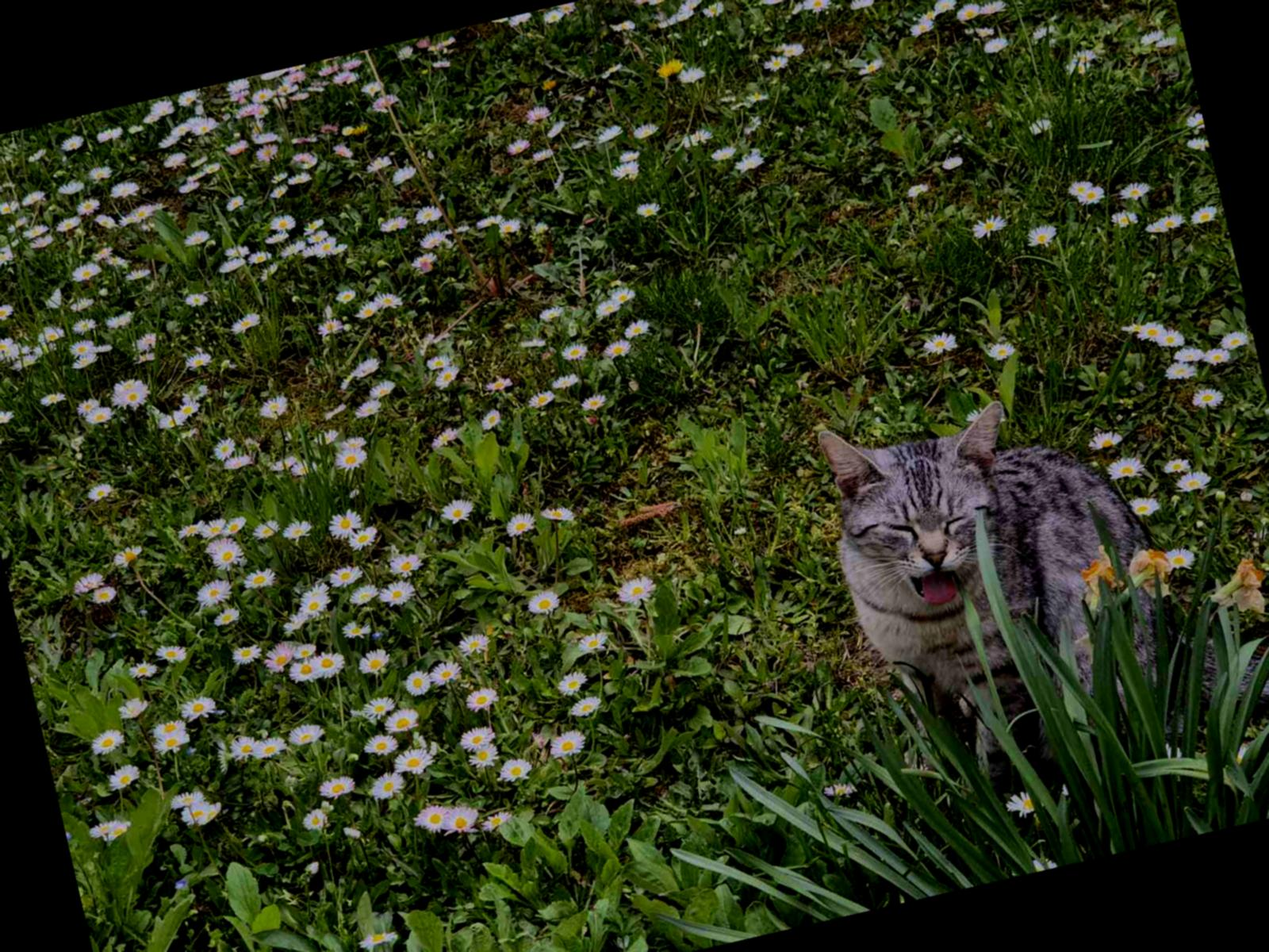macka: (810, 324, 1269, 872)
